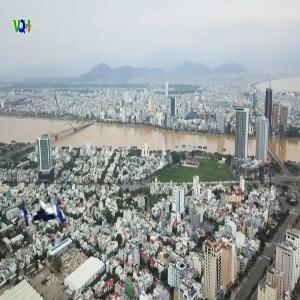drone: (3, 182, 94, 273)
